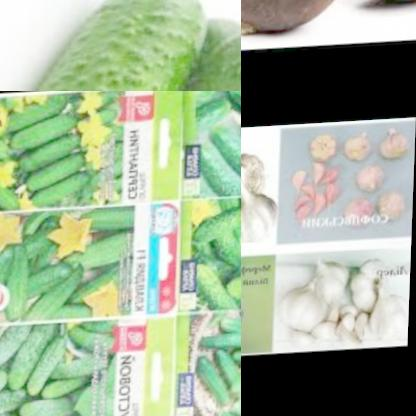cucumber: (0, 0, 214, 91), (24, 4, 241, 91), (0, 198, 137, 333), (0, 91, 128, 222), (0, 309, 125, 416), (186, 91, 241, 211), (197, 206, 241, 317), (197, 309, 241, 416)
garlic: (286, 259, 412, 356), (284, 158, 345, 230), (241, 137, 273, 253), (374, 192, 414, 232), (338, 198, 378, 236), (354, 167, 392, 202), (377, 134, 414, 169), (343, 135, 376, 171), (314, 137, 337, 162)
redka: (241, 0, 359, 40)
